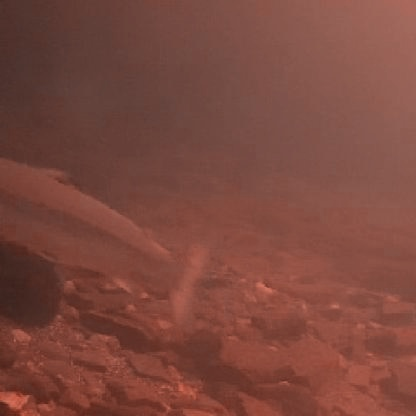salmon: (0, 157, 221, 330)
